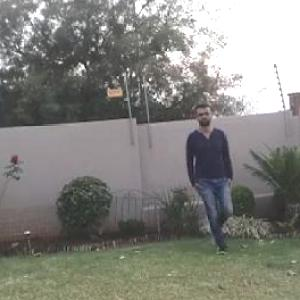follow: (196, 98, 238, 255)
